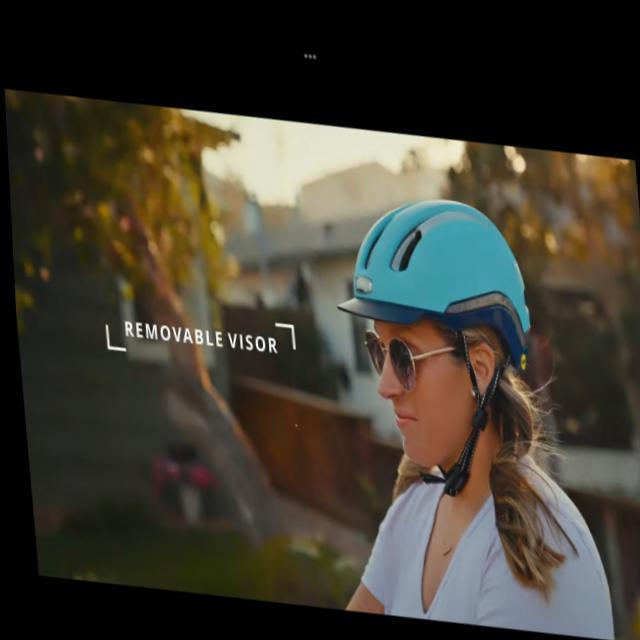Helmet: (333, 194, 553, 489)
